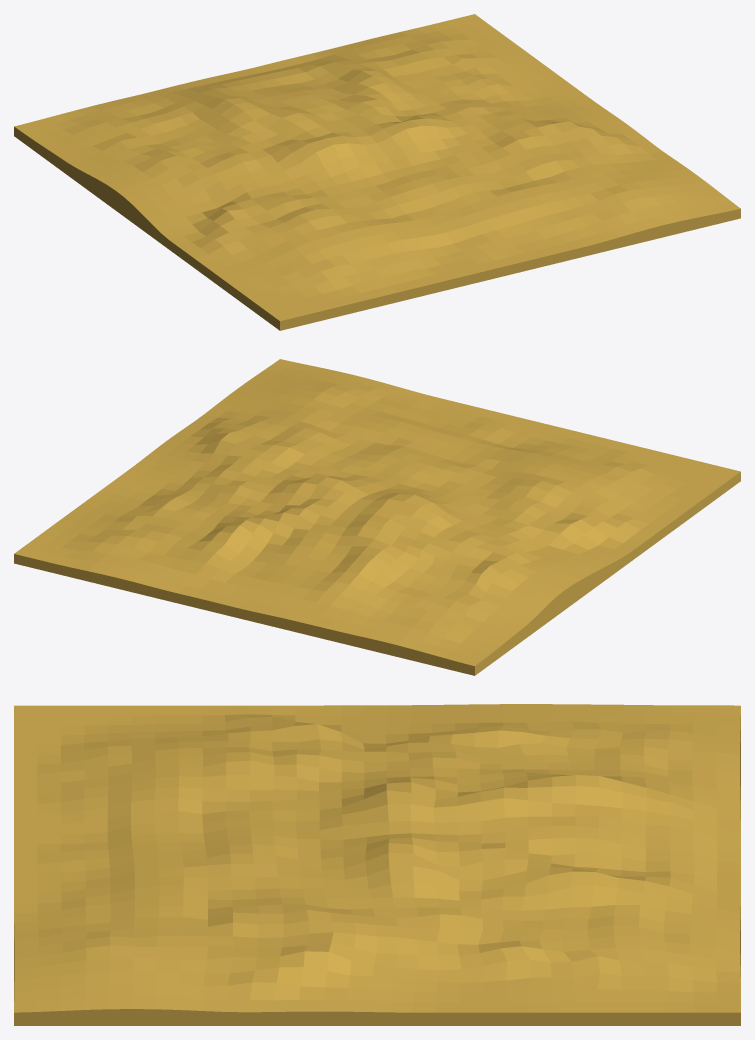
Rendered from tile_desert_1.fbx.
3 renders of one model, top to bottom at view 1: azimuth 30°, elevation 25°; view 2: azimuth 150°, elevation 25°; view 3: azimuth 270°, elevation 25°, orthographic. The views are drawn at different scales.
Parts seen in each view (by area): view 1: Cube; view 2: Cube; view 3: Cube.
Boxes of the visible parts, <box> form: Cube: <box>14,14,740,330</box>; Cube: <box>14,359,740,675</box>; Cube: <box>14,704,740,1025</box>.
Bounding box in the file's own units: 100 × 8.31 × 100.
